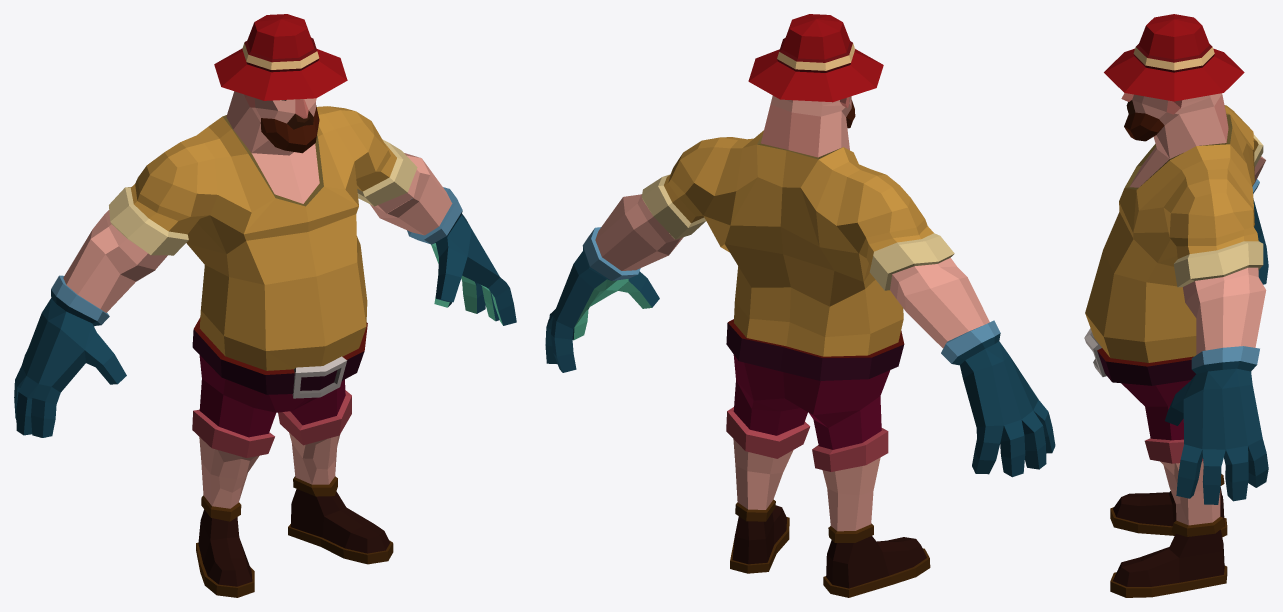
File: Farmer_3.fbx
3 views of the same model, side by side, from view 1: azimuth 30°, elevation 25°; view 2: azimuth 150°, elevation 25°; view 3: azimuth 270°, elevation 25° (orthographic).
Parts seen in each view (by area): view 1: Farmer_3; view 2: Farmer_3; view 3: Farmer_3.
Part boxes in pixels (x1=…): Farmer_3: x1=14, y1=14, x2=516, y2=597; Farmer_3: x1=545, y1=14, x2=1055, y2=597; Farmer_3: x1=1084, y1=14, x2=1268, y2=597.
Size of the model in its own units: 416 by 441 by 138.
Materials: 1 (1 with a texture image).
